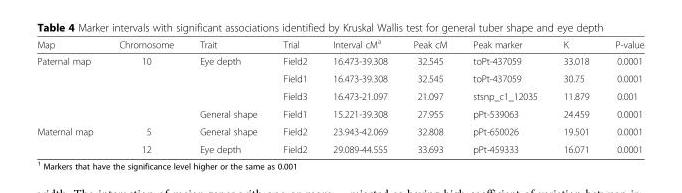table: (36, 36, 643, 154)
table column: (459, 36, 549, 154), (186, 36, 269, 154), (105, 36, 186, 154), (319, 36, 399, 154), (36, 36, 105, 154), (399, 36, 459, 154), (549, 36, 601, 154), (269, 36, 319, 154), (601, 36, 643, 154)
table column header: (36, 36, 643, 52)
table row: (36, 69, 643, 87), (36, 104, 643, 122), (36, 122, 643, 140), (36, 52, 643, 69), (36, 87, 643, 104), (36, 36, 643, 52), (36, 140, 643, 154)
table spanning cell: (105, 52, 186, 122), (36, 52, 105, 122), (186, 52, 269, 104), (36, 122, 105, 154)
